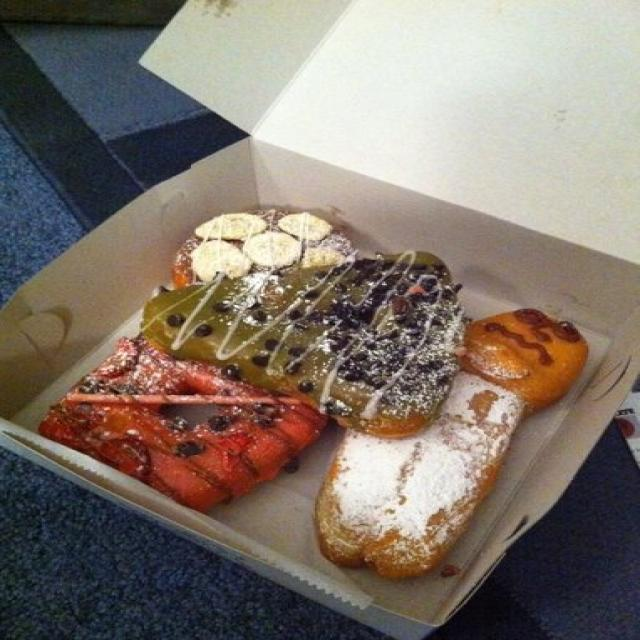Donuts: (85, 195, 585, 604)
